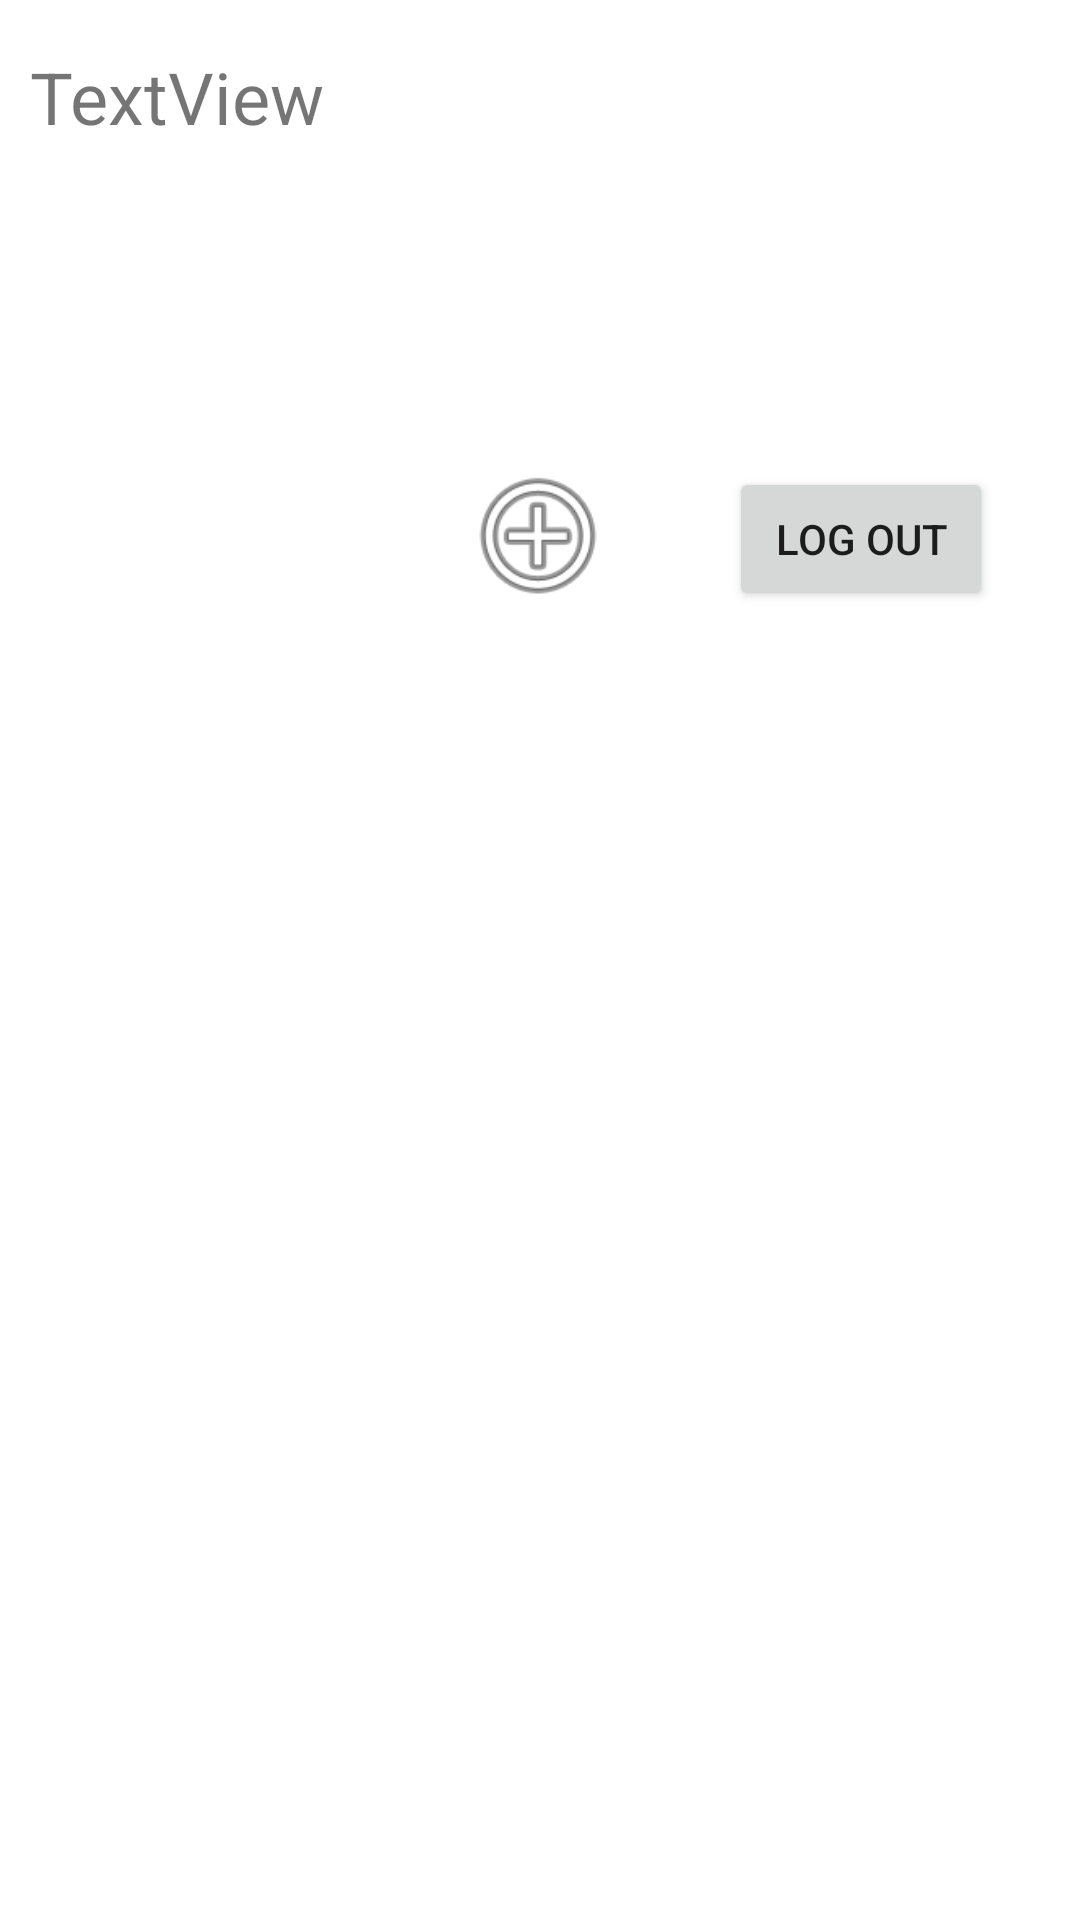

Icon bounding boxes for this 1080×1920 phone screenshot, format (x1, y1, x2, y2):
add: (480, 478, 596, 594)
